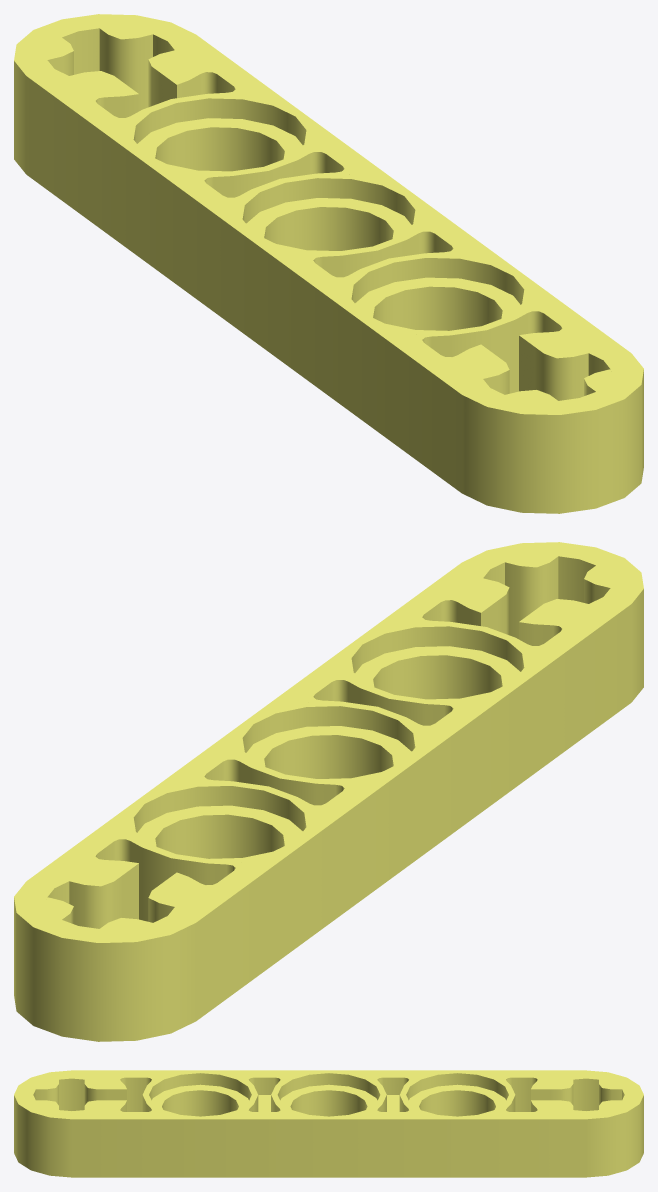
3 renders of one model, top to bottom at view 1: azimuth 30°, elevation 25°; view 2: azimuth 150°, elevation 25°; view 3: azimuth 270°, elevation 25°, orthographic. The views are drawn at different scales.
Parts seen in each view (by area): view 1: 11478.dat; view 2: 11478.dat; view 3: 11478.dat.
Part boxes in pixels (x1=…): 11478.dat: x1=14, y1=14, x2=643, y2=513; 11478.dat: x1=14, y1=542, x2=643, y2=1041; 11478.dat: x1=14, y1=1070, x2=643, y2=1177.
Size of the model in its own units: 0.0072 by 0.004 by 0.0392.
